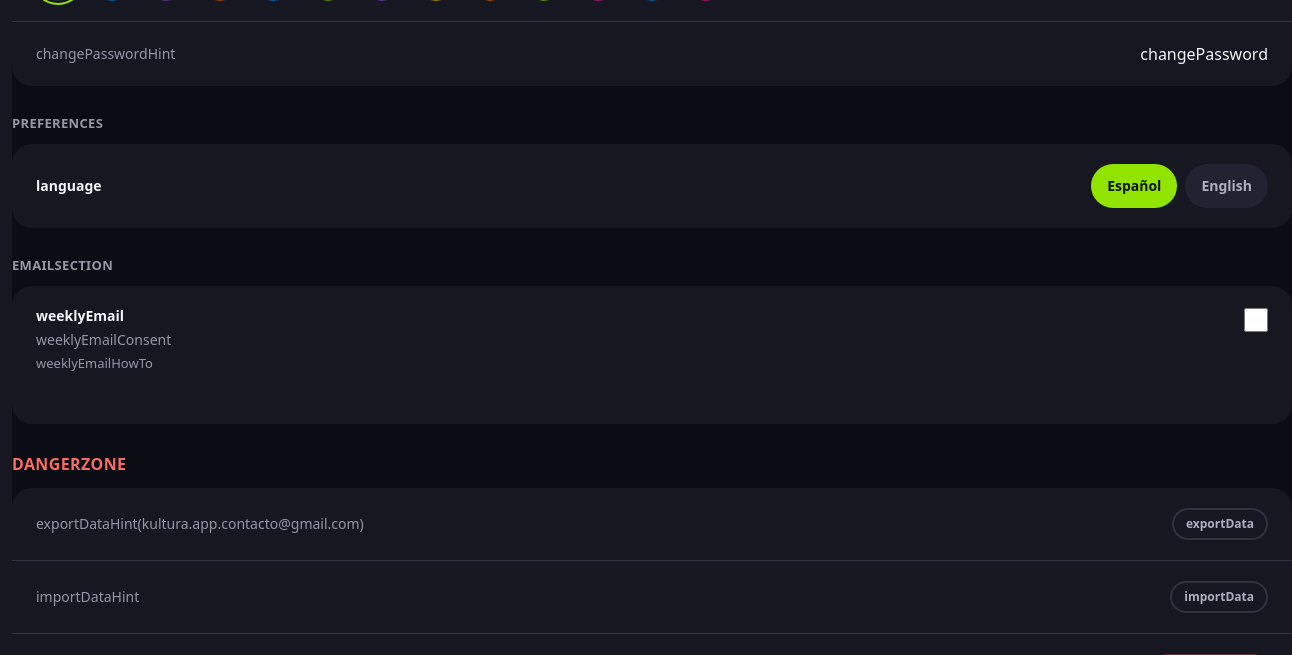
Scenario: Ajustes › correo semanal › texto viejo (409): vuelve atrás y pide recargar
(page scrolled)
Step 1. Click the switch → x=1256, y=320, box [1244, 308, 1268, 332]
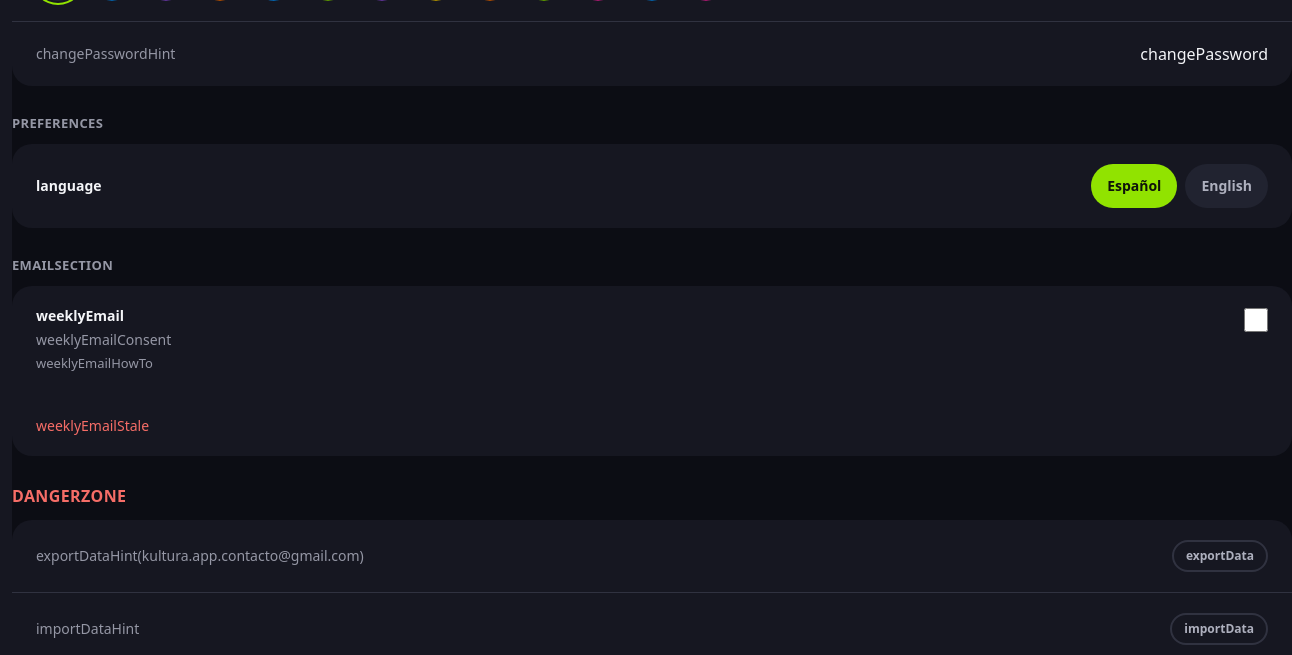
Now the message "weeklyEmailStale" is shown, box [36, 416, 149, 435]
